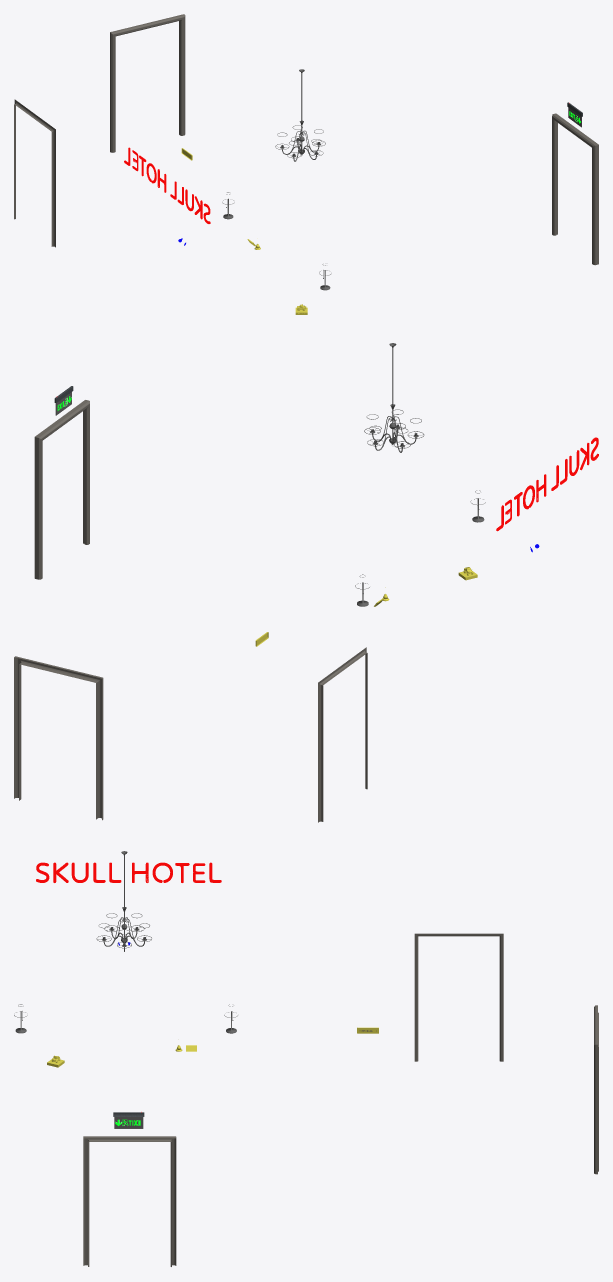
Rendered from reception_metal.glb.
3 renders of one model, top to bottom at view 1: azimuth 30°, elevation 25°; view 2: azimuth 150°, elevation 25°; view 3: azimuth 270°, elevation 25°, orthographic. The views are drawn at different scales.
Visible parts, largest first — view 1: Frame, Metal, Text; view 2: Frame, Metal, Text; view 3: Frame, Text, Metal.
Part boxes in pixels (<box>): Frame: <box>14,14,598,265</box>; Metal: <box>222,69,581,290</box>; Text: <box>124,147,210,223</box>; Frame: <box>14,400,367,822</box>; Metal: <box>55,343,485,606</box>; Text: <box>496,437,598,531</box>; Frame: <box>83,933,598,1266</box>; Text: <box>36,862,221,882</box>; Metal: <box>14,851,237,1128</box>.
Size of the model in its own units: 7.41 by 4.27 by 8.43.
Materials: 8 (1 with a texture image).
